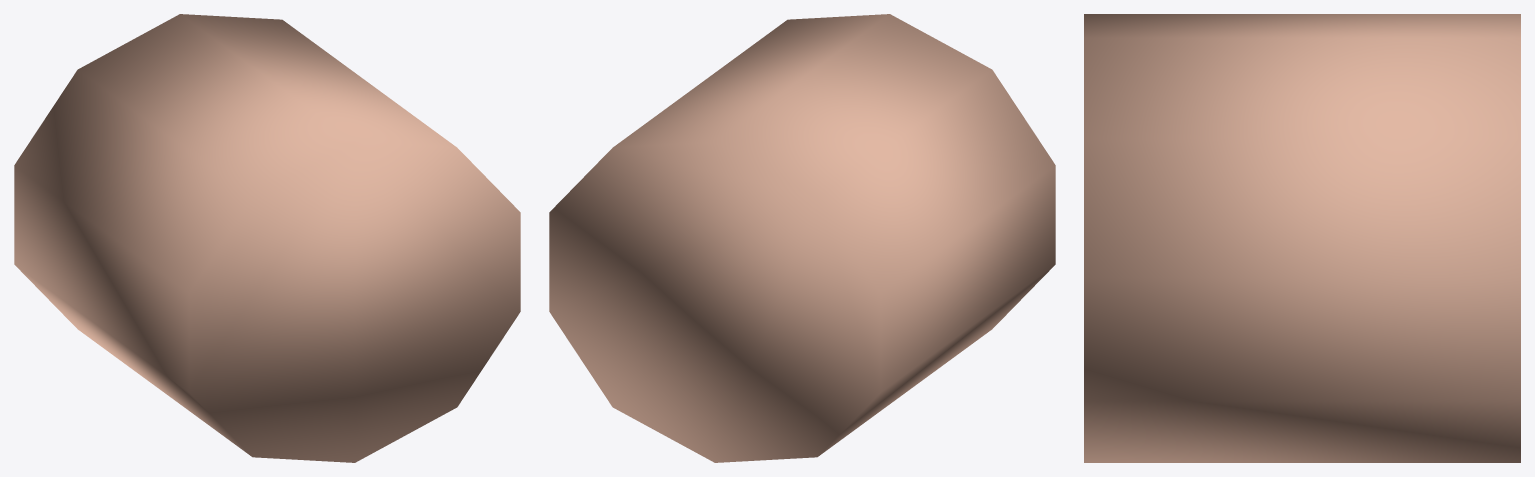
File: SM_W02_Climber_Neck.fbx
3 renders of one model, left to right at view 1: azimuth 30°, elevation 25°; view 2: azimuth 150°, elevation 25°; view 3: azimuth 270°, elevation 25°, orthographic. The views are drawn at different scales.
Parts seen in each view (by area): view 1: SM_W02_Climber_Neck; view 2: SM_W02_Climber_Neck; view 3: SM_W02_Climber_Neck.
Part boxes in pixels (x1,y1,x2,y2): SM_W02_Climber_Neck: (14,14,520,462); SM_W02_Climber_Neck: (549,14,1055,462); SM_W02_Climber_Neck: (1084,14,1520,462).
Size of the model in its own units: 0.2187 by 0.2 by 0.2024.
